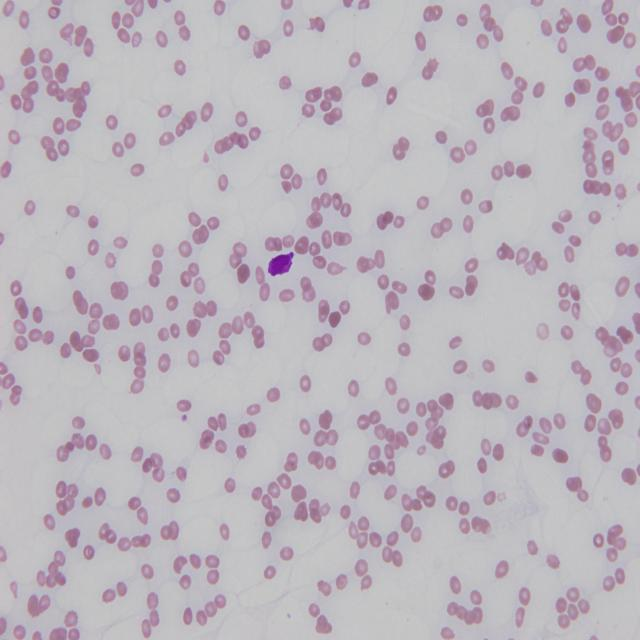cell: (268, 252, 294, 276)
